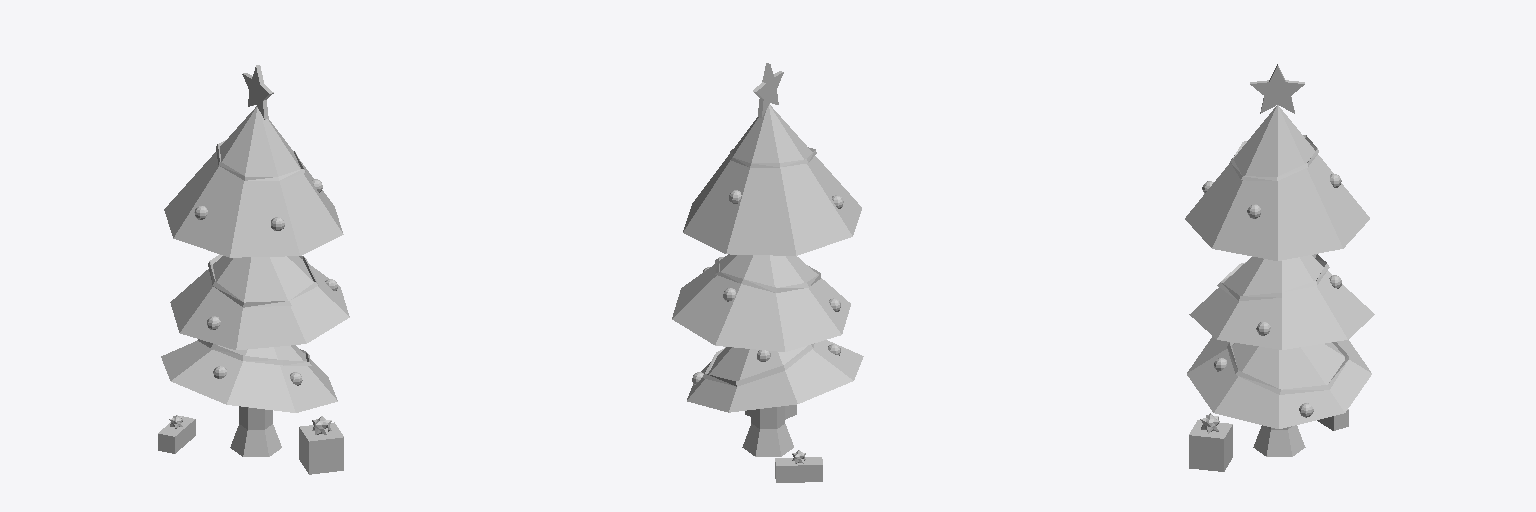
Rendered from Christmas-tree.obj.
The picture shows the model from 3 angles: view 1: azimuth 30°, elevation 25°; view 2: azimuth 150°, elevation 25°; view 3: azimuth 270°, elevation 25°; orthographic projection.
Parts seen in each view (by area): view 1: Christmas_Tree_Cylinder; view 2: Christmas_Tree_Cylinder; view 3: Christmas_Tree_Cylinder.
Part boxes in pixels (x1,y1,x2,y2): Christmas_Tree_Cylinder: (158,65,349,474); Christmas_Tree_Cylinder: (672,63,863,482); Christmas_Tree_Cylinder: (1185,64,1374,471).
Size of the model in its own units: 11.67 by 24.91 by 11.25.